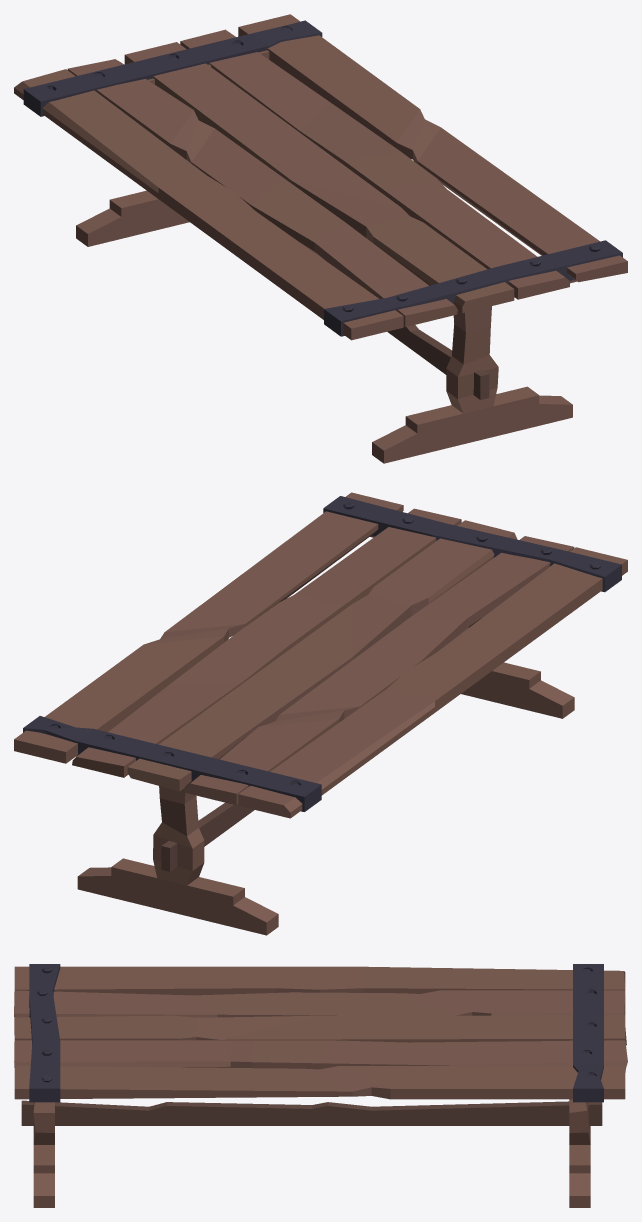
Rendered from Dungeon_Table_Big.glb.
The picture shows the model from 3 angles, top to bottom: view 1: azimuth 30°, elevation 25°; view 2: azimuth 150°, elevation 25°; view 3: azimuth 270°, elevation 25°; orthographic projection. The views are drawn at different scales.
Visible parts, largest first — view 1: Table_Big; view 2: Table_Big; view 3: Table_Big.
Part boxes in pixels (left/top/right/bottom): Table_Big: left=14, top=14, right=627, bottom=463; Table_Big: left=14, top=492, right=627, bottom=935; Table_Big: left=14, top=964, right=627, bottom=1207.
Bounding box in the file's own units: 1.58 × 0.8542 × 3.3.
